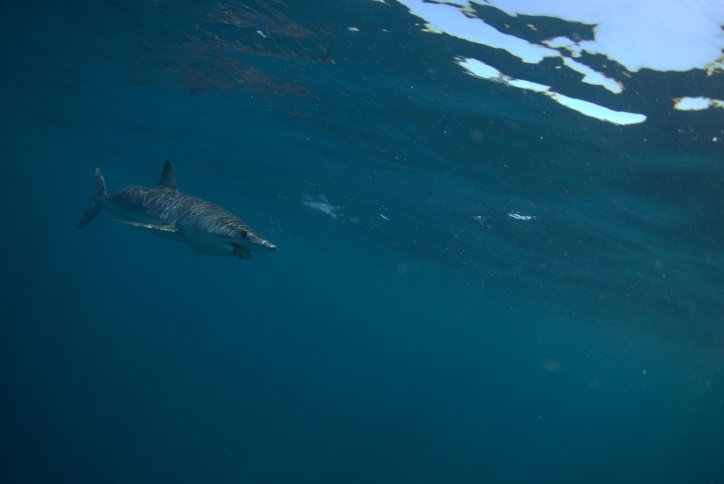Mako: (60, 153, 296, 279)
